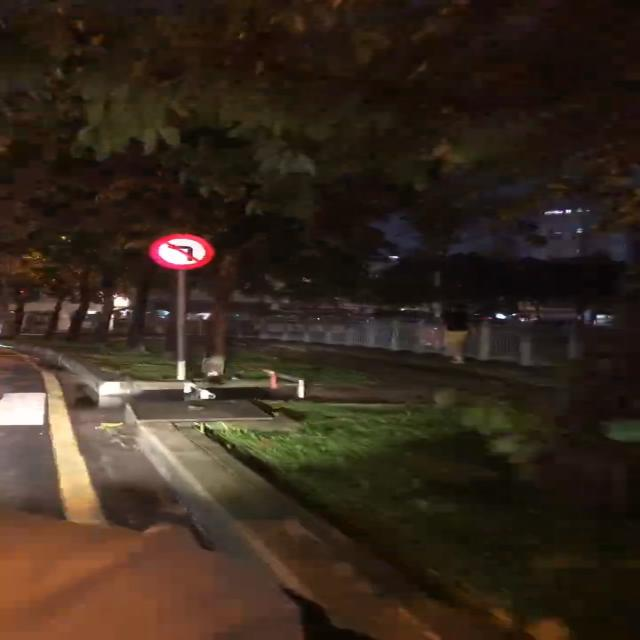Bien bao cam re trai: (149, 226, 211, 268)
